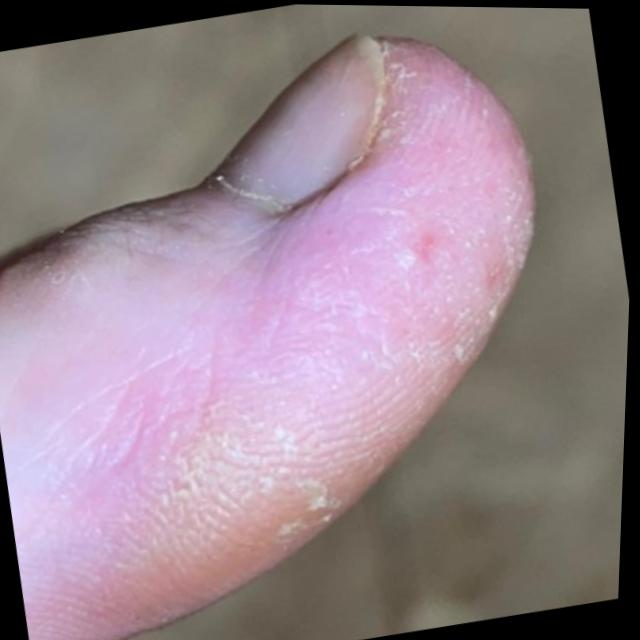Eczema: (132, 51, 536, 469)
